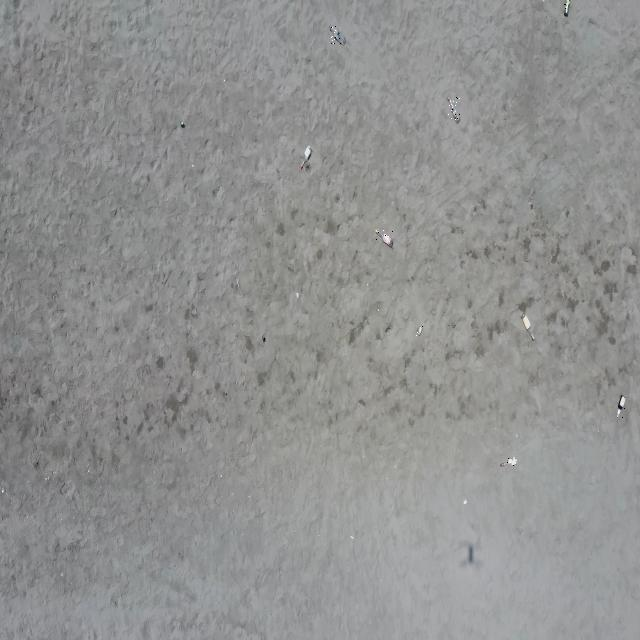glass: (520, 312, 535, 342), (376, 229, 394, 248), (448, 97, 460, 121), (330, 24, 344, 44), (300, 146, 312, 168), (616, 396, 626, 418), (501, 457, 516, 467), (564, 0, 570, 16), (416, 326, 423, 336)
